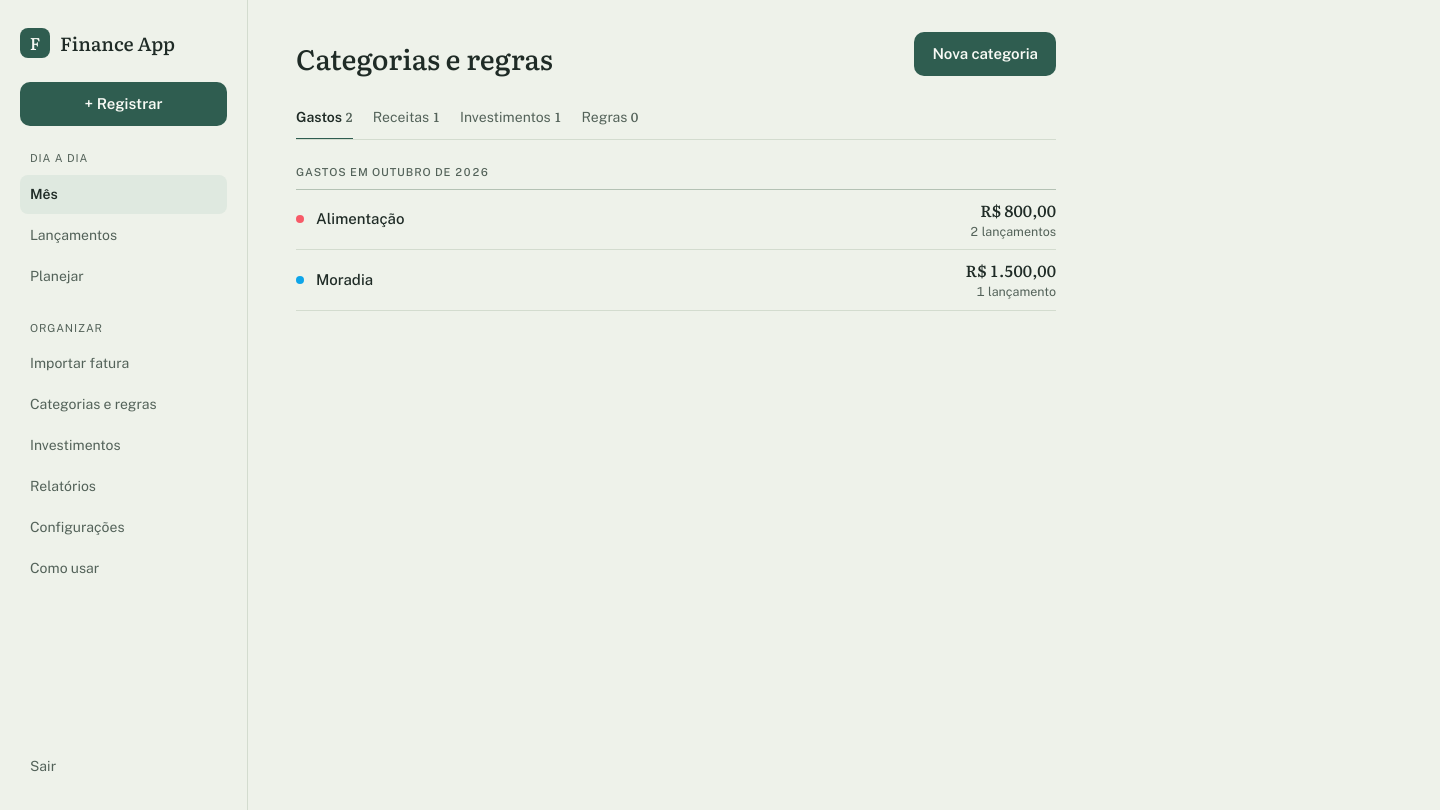
it: Página de categorias › quando a edição falha (500) mostra o erro da API no modal e mantém os valores
The width and height of the screenshot is (1440, 810).
Step 1. Click the button with aria-label "Alimentação, " → [360, 219], box top-left (288, 190), bottom-right (1064, 249)
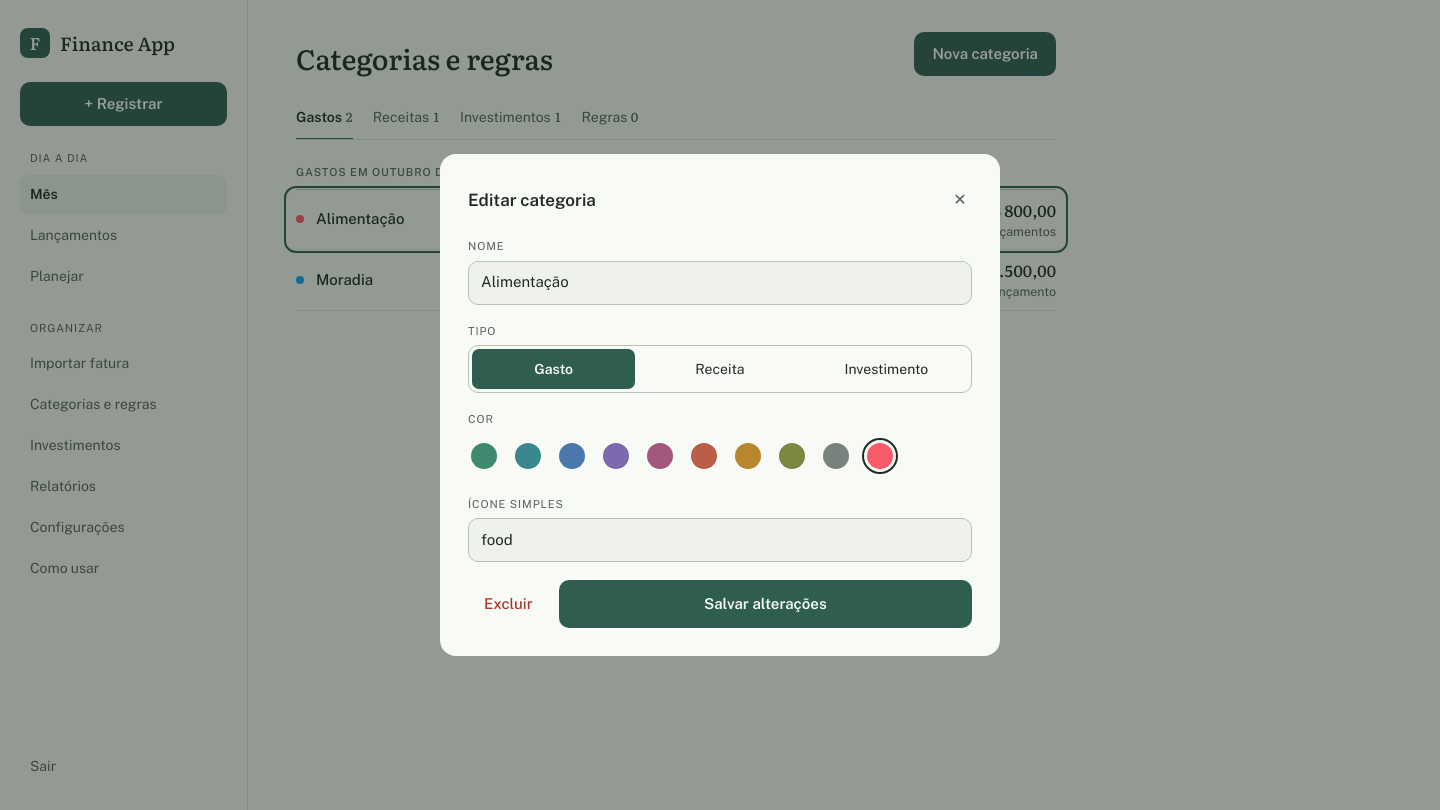
Step 2. Replace the text in the field labelled "Nome" with "Comida" → [720, 282], box top-left (468, 260), bottom-right (972, 304)
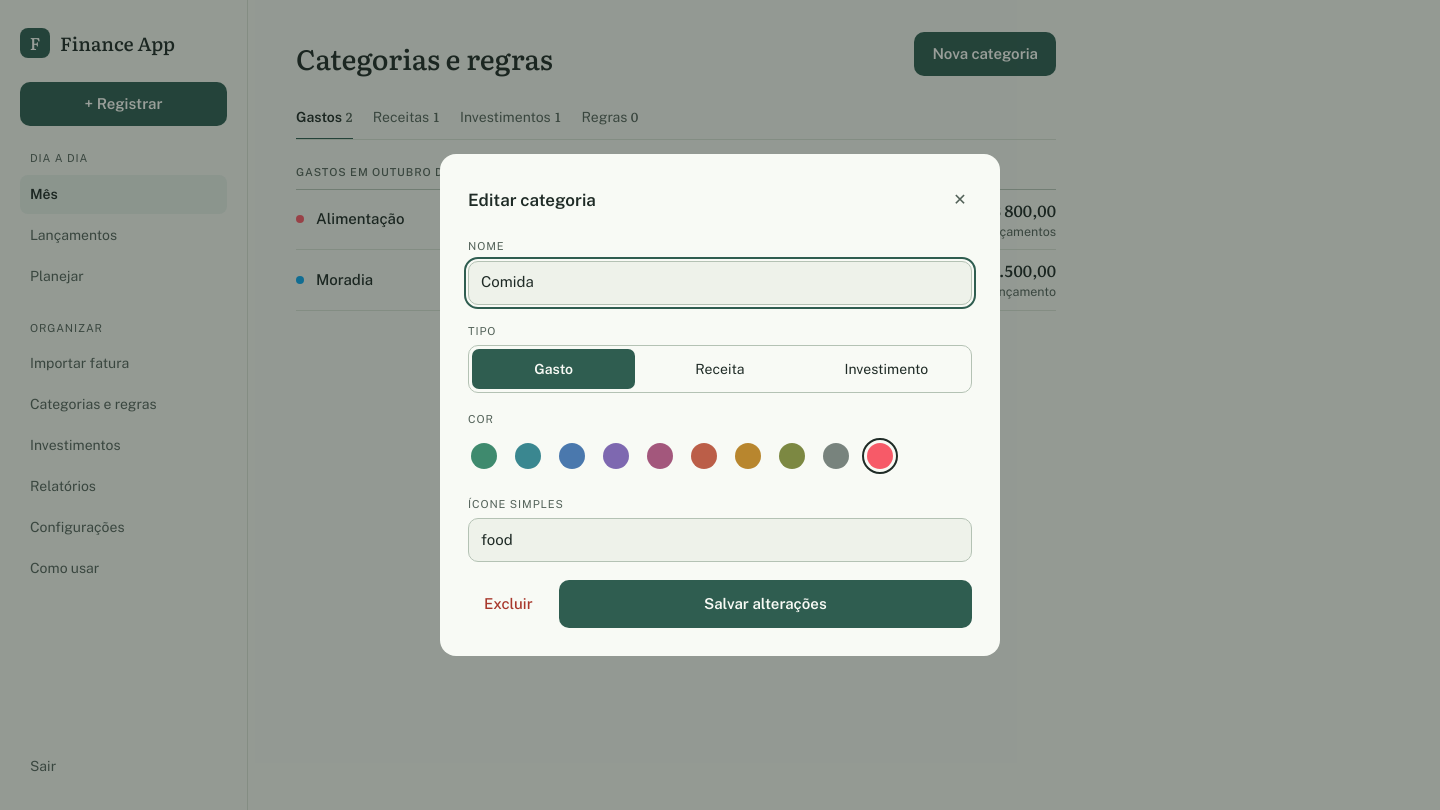
Step 3. Click the button "Salvar alterações" → [765, 604], box top-left (559, 580), bottom-right (972, 628)
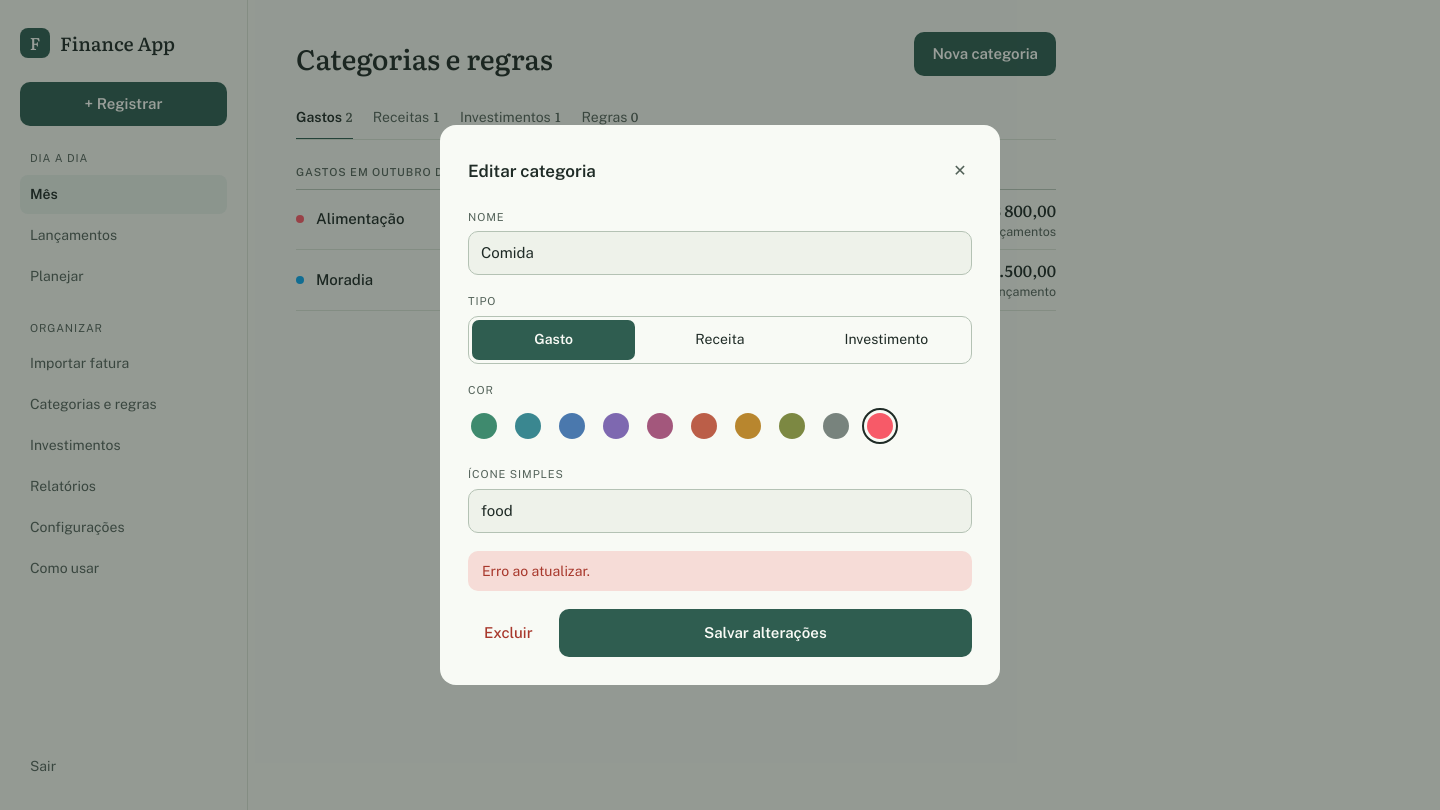
Expected: the button with aria-label "Alimentação, " is shown, top-left (288, 190), bottom-right (1064, 249)
Now the message reads "Erro ao atualizar.", box top-left (482, 563), bottom-right (590, 579)
